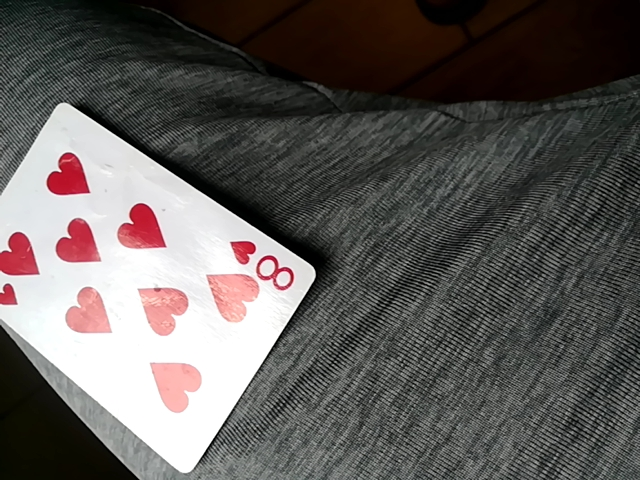hx 8: (0, 97, 318, 476)
